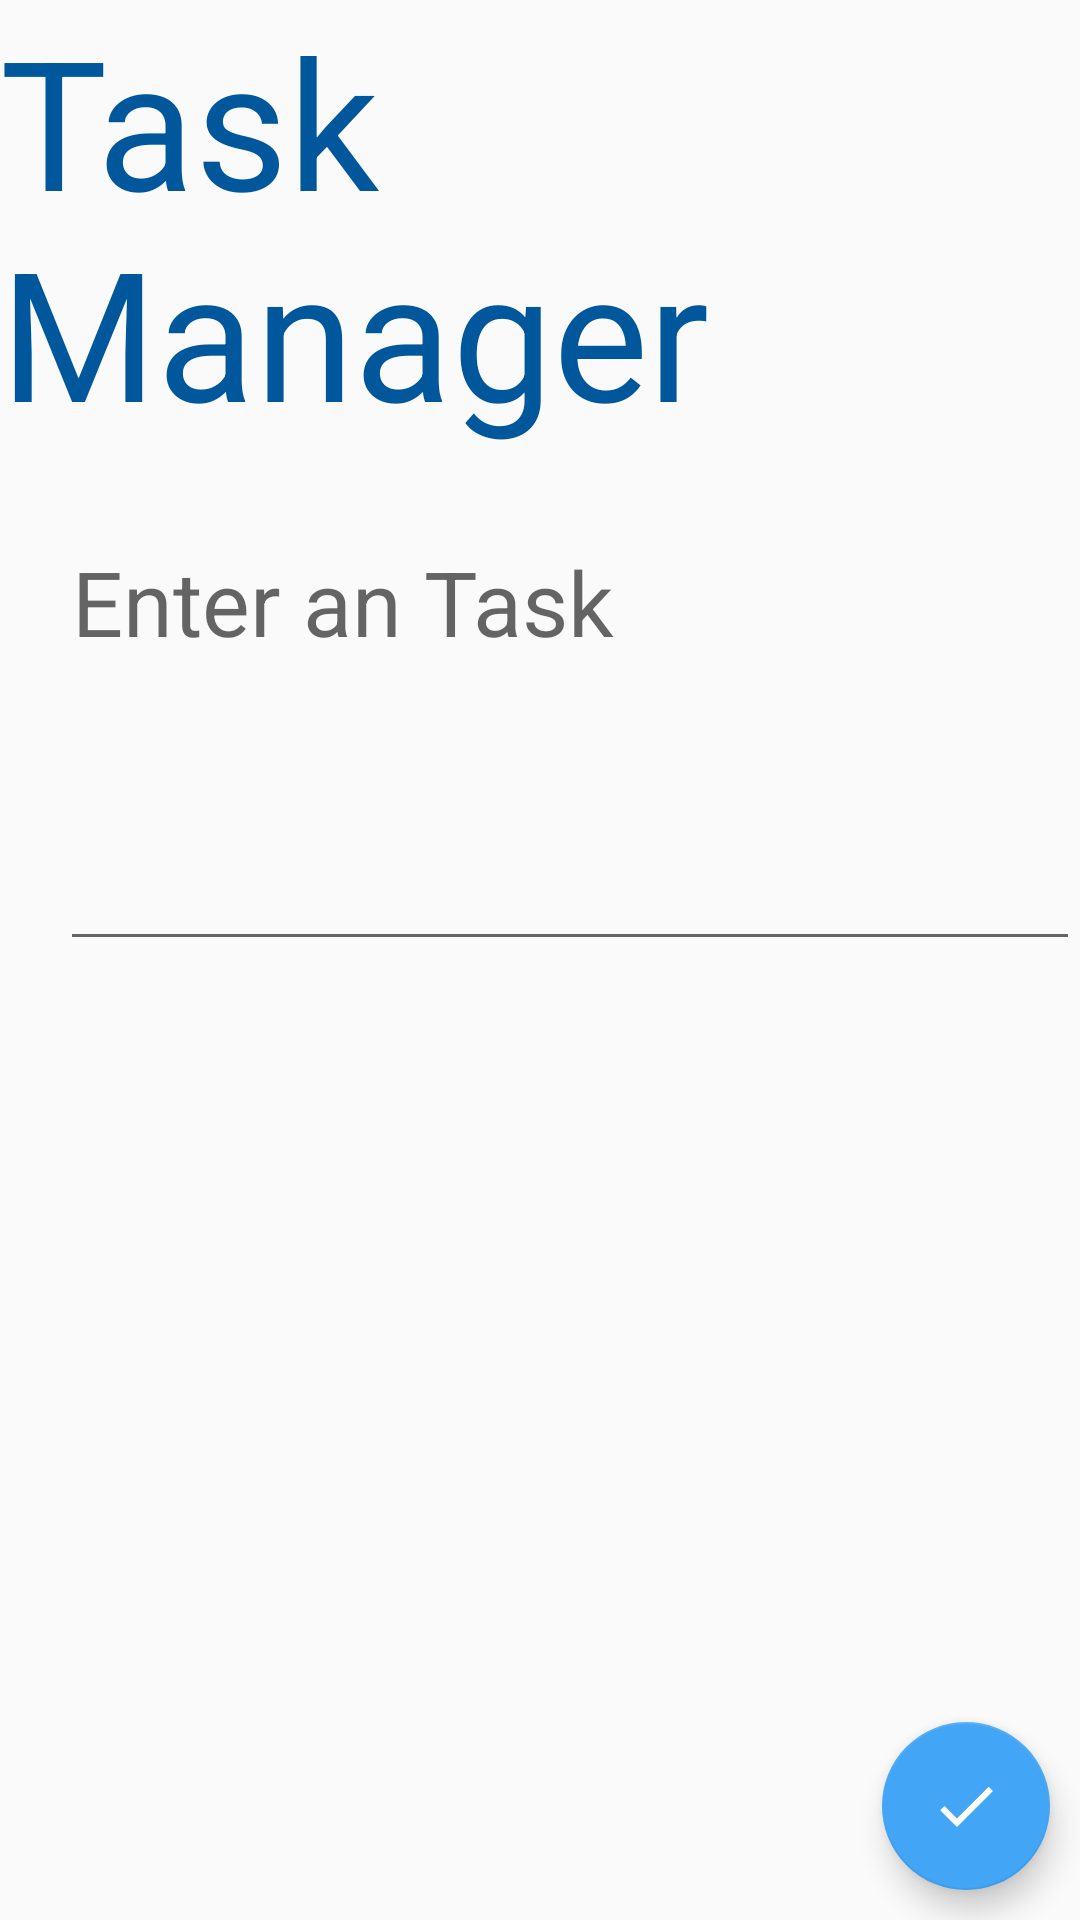

Named icons in this screenshot (1080x1920) and their bounding boxes, [x1,y1,x2,y2]:
check: [882,1722,1050,1890]
